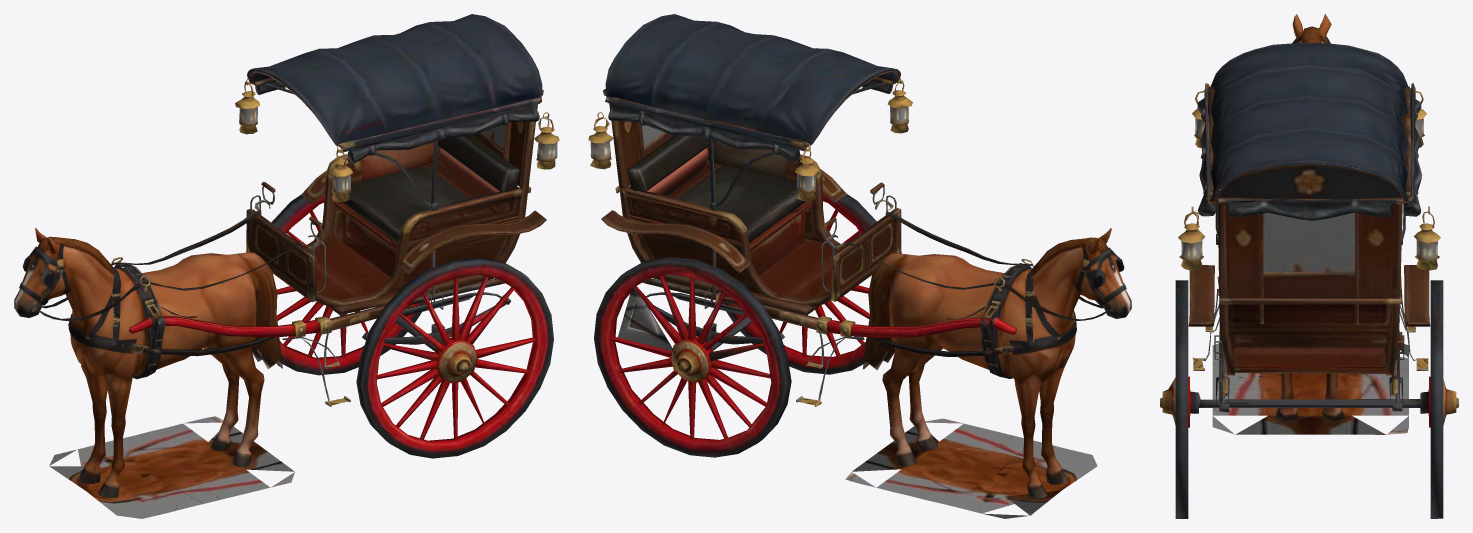
File: kalesa.glb
The picture shows the model from 3 angles, left to right: view 1: azimuth 30°, elevation 25°; view 2: azimuth 150°, elevation 25°; view 3: azimuth 270°, elevation 25°; orthographic projection. The views are drawn at different scales.
Parts seen in each view (by area): view 1: geometry_0; view 2: geometry_0; view 3: geometry_0.
Part boxes in pixels (box(x1,y1,x2,y2)): geometry_0: box(14, 14, 559, 518); geometry_0: box(588, 14, 1131, 518); geometry_0: box(1160, 14, 1458, 518).
Size of the model in its own units: 0.9575 by 0.6782 by 0.4448.
1 material, 1 textured.
